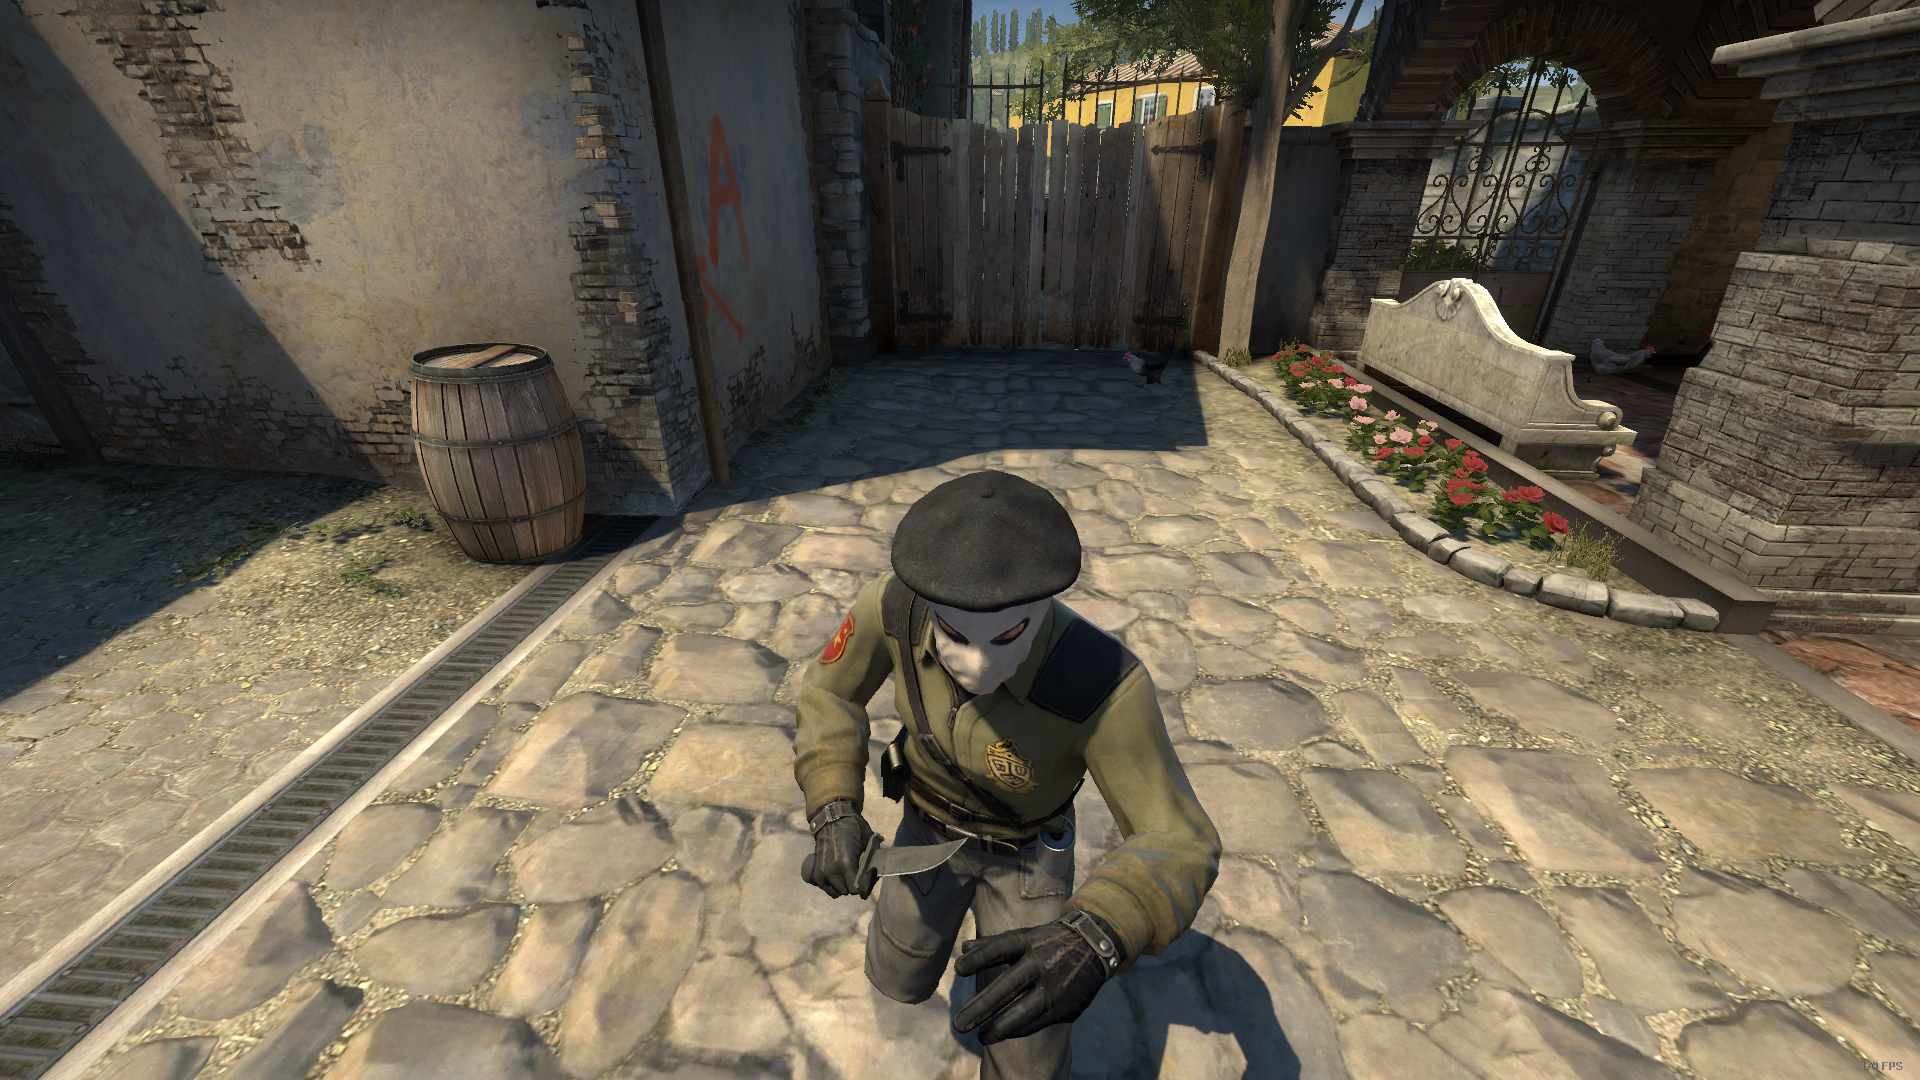t: (793, 469, 1222, 1080)
